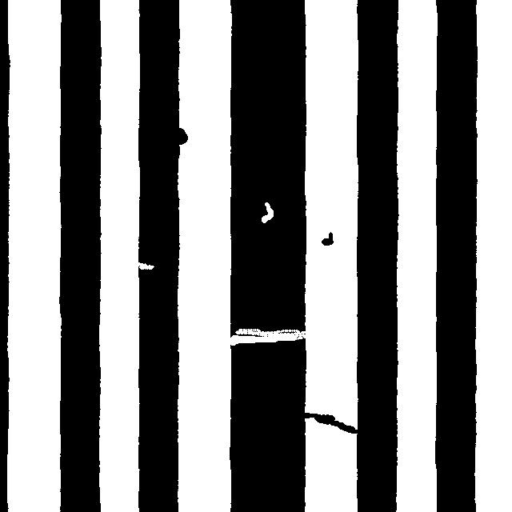copper: (314, 224, 341, 253)
mousebite: (125, 254, 162, 277)
open: (221, 321, 315, 353)
pin-hole: (254, 194, 281, 230)
short: (294, 405, 368, 441)
spur: (163, 120, 195, 152)
